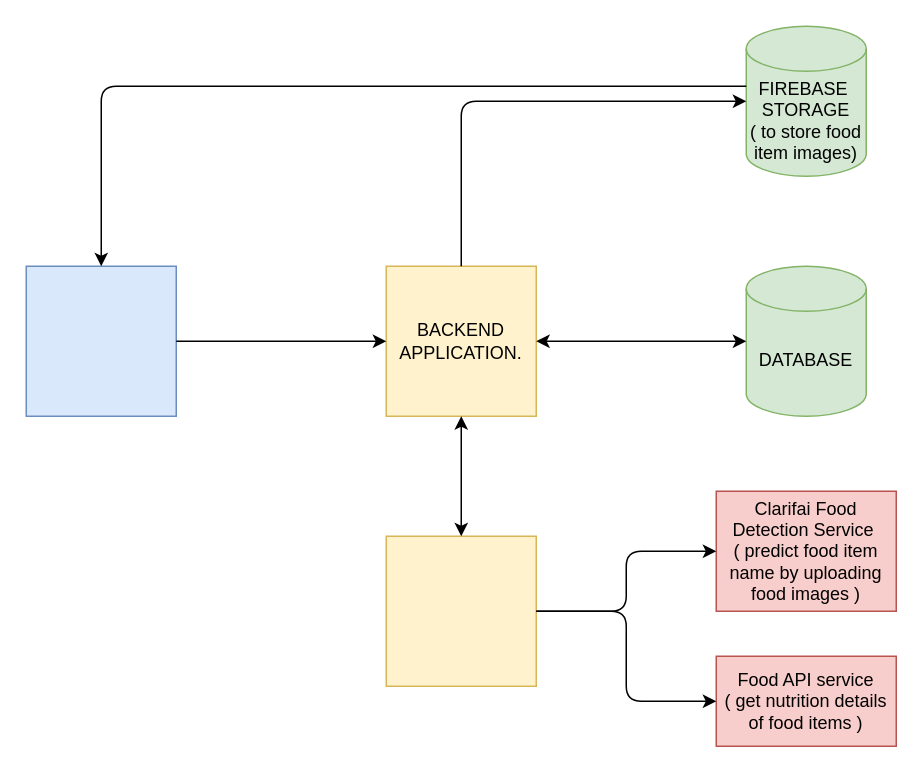
Some shapes in this 923 by 773 pixel diagram are drawn without their labels. The shapes that lost their labels are listed below. From the top down, each one's box as (x1, y1, x2, y2) in pixels, then its label:
(25, 265, 176, 416): WEB APP
(385, 535, 536, 686): AI BACKEND SERVICE
